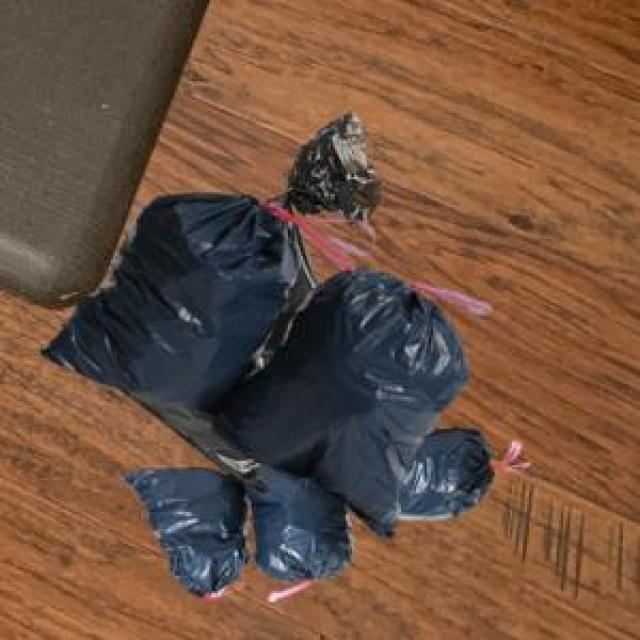Vinyl: (45, 198, 491, 579), (141, 471, 244, 591)
